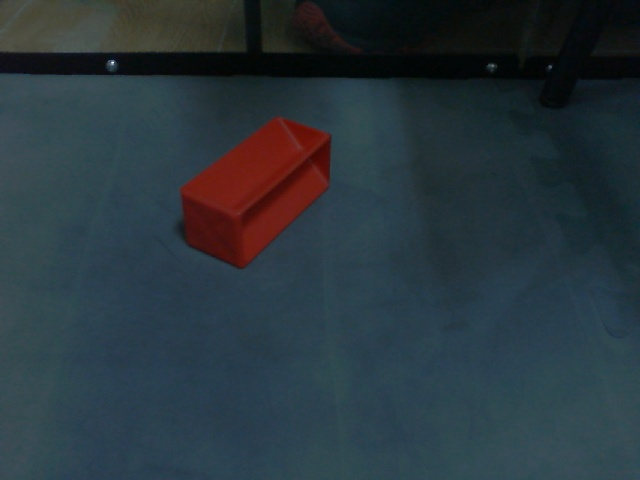RedSample: (176, 112, 334, 271)
